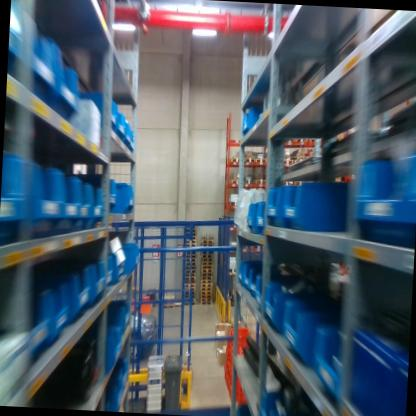pallet: (244, 156, 256, 164), (162, 293, 175, 300), (201, 232, 214, 239), (255, 157, 266, 165), (200, 250, 213, 256), (200, 260, 213, 266), (230, 158, 241, 165), (230, 178, 241, 185), (254, 179, 266, 185), (244, 178, 254, 185), (283, 157, 293, 164), (163, 299, 174, 305), (163, 303, 174, 309), (201, 238, 214, 243), (200, 252, 213, 257), (200, 256, 213, 261), (200, 264, 213, 269), (200, 268, 213, 273), (200, 282, 213, 287), (199, 290, 212, 295), (185, 223, 197, 228), (185, 238, 197, 243), (185, 256, 197, 261), (185, 264, 197, 269), (185, 278, 195, 284), (184, 282, 196, 287), (184, 301, 196, 306), (201, 275, 213, 280), (200, 272, 214, 276), (186, 228, 197, 233), (186, 231, 197, 236), (185, 242, 196, 247), (185, 253, 196, 258), (229, 200, 238, 206), (201, 242, 214, 246), (185, 275, 195, 280), (184, 293, 194, 298), (184, 286, 196, 290), (200, 279, 212, 283), (295, 138, 307, 142), (230, 222, 238, 228), (185, 250, 196, 254), (185, 261, 196, 265), (185, 269, 196, 273), (185, 272, 196, 276), (184, 290, 195, 294), (184, 297, 195, 301), (293, 181, 304, 185), (281, 181, 292, 185), (175, 301, 182, 307), (199, 298, 212, 301), (200, 287, 212, 290), (200, 295, 212, 298), (200, 301, 212, 304), (294, 159, 303, 163), (288, 138, 295, 142), (229, 268, 235, 272), (192, 235, 197, 239)
pallet_truck: (230, 273, 235, 306)
small_load_carrier: (230, 326, 252, 342), (237, 385, 254, 401), (230, 342, 240, 353), (224, 333, 230, 349)
